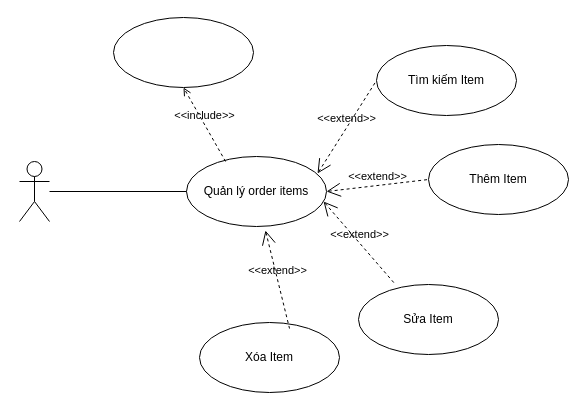
Image size: 586x410. Some labels were removed from this diagram. Each missing label, with the centre of its shape:
"Admin" goes at point 34,191.
"Đăng nhập" goes at point 183,52.
